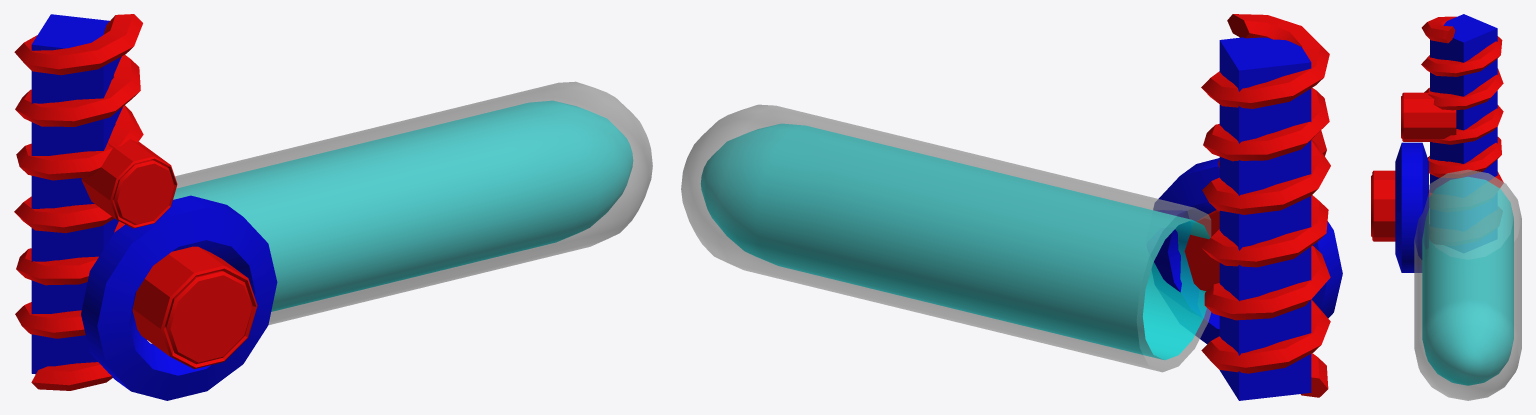
Rendered from gizmo_backfaces.fbx.
The picture shows the model from 3 angles, left to right: view 1: azimuth 30°, elevation 25°; view 2: azimuth 150°, elevation 25°; view 3: azimuth 270°, elevation 25°; orthographic projection. The views are drawn at different scales.
Visible parts, largest first — view 1: vialv2, scroller, helix, helixpole, mainbutton, auxbutton; view 2: vialv2, helix, helixpole, scroller, mainbutton; view 3: vialv2, helixpole, helix, scroller, auxbutton, mainbutton.
Part boxes in pixels (bbox=[...]): vialv2: bbox=[173, 81, 652, 325]; scroller: bbox=[81, 195, 277, 400]; helix: bbox=[14, 14, 143, 390]; helixpole: bbox=[31, 14, 122, 374]; mainbutton: bbox=[132, 246, 257, 369]; auxbutton: bbox=[81, 139, 177, 228]; vialv2: bbox=[681, 104, 1211, 372]; helix: bbox=[1201, 14, 1330, 397]; helixpole: bbox=[1219, 37, 1311, 400]; scroller: bbox=[1152, 158, 1342, 344]; mainbutton: bbox=[1184, 210, 1219, 292]; vialv2: bbox=[1414, 169, 1521, 400]; helixpole: bbox=[1430, 14, 1497, 192]; helix: bbox=[1421, 16, 1503, 197]; scroller: bbox=[1395, 142, 1428, 272]; auxbutton: bbox=[1401, 92, 1456, 141]; mainbutton: bbox=[1371, 170, 1395, 241].
Size of the model in its own units: 163 by 89.22 by 52.94.
